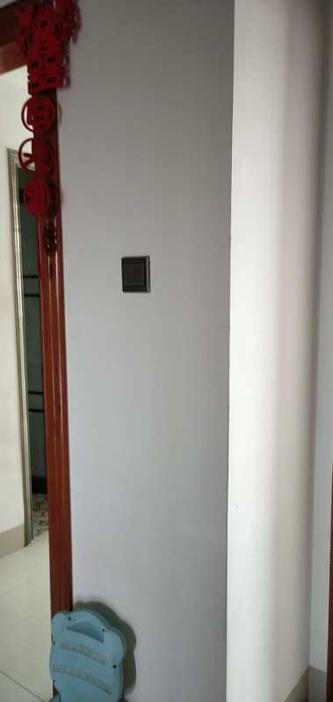switch: (119, 259, 160, 301)
